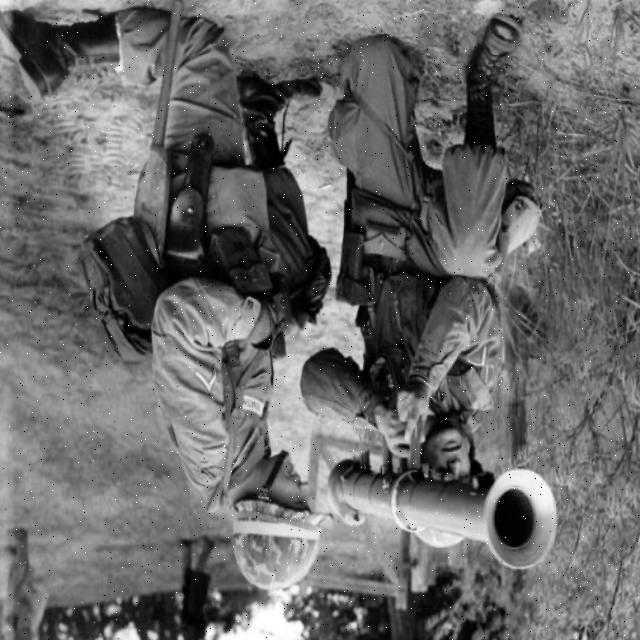bazooka: (313, 449, 557, 588)
